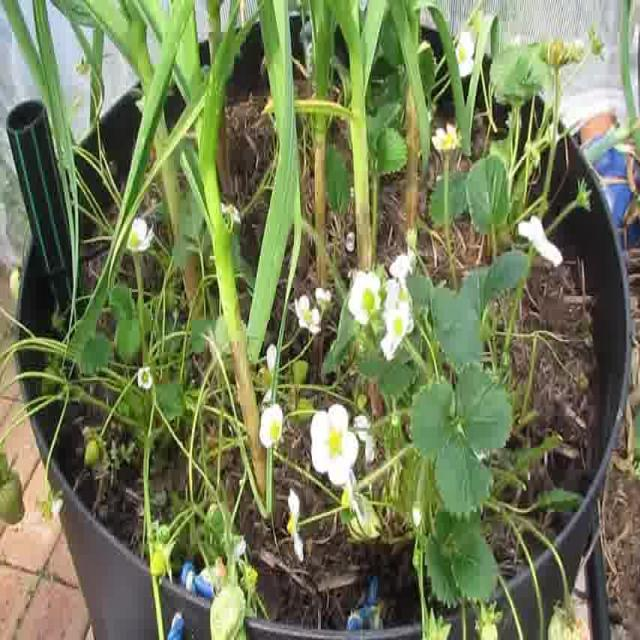Fruta sana: (0, 469, 25, 523), (84, 438, 100, 471), (142, 372, 148, 382)
